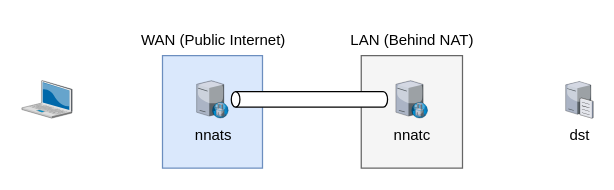
This 614x190 diagram has some shape labels left out. The centre of each missing label's shape, as x and y in pixels:
"nnat Tunnel" goes at pixel 309 98.
"user" goes at pixel 46 99.
